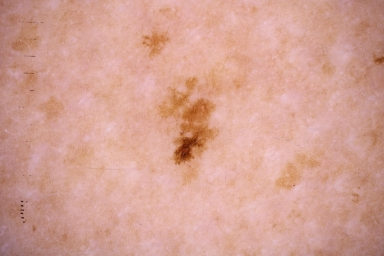melanoma: (161, 86, 220, 164), (141, 32, 173, 58)
